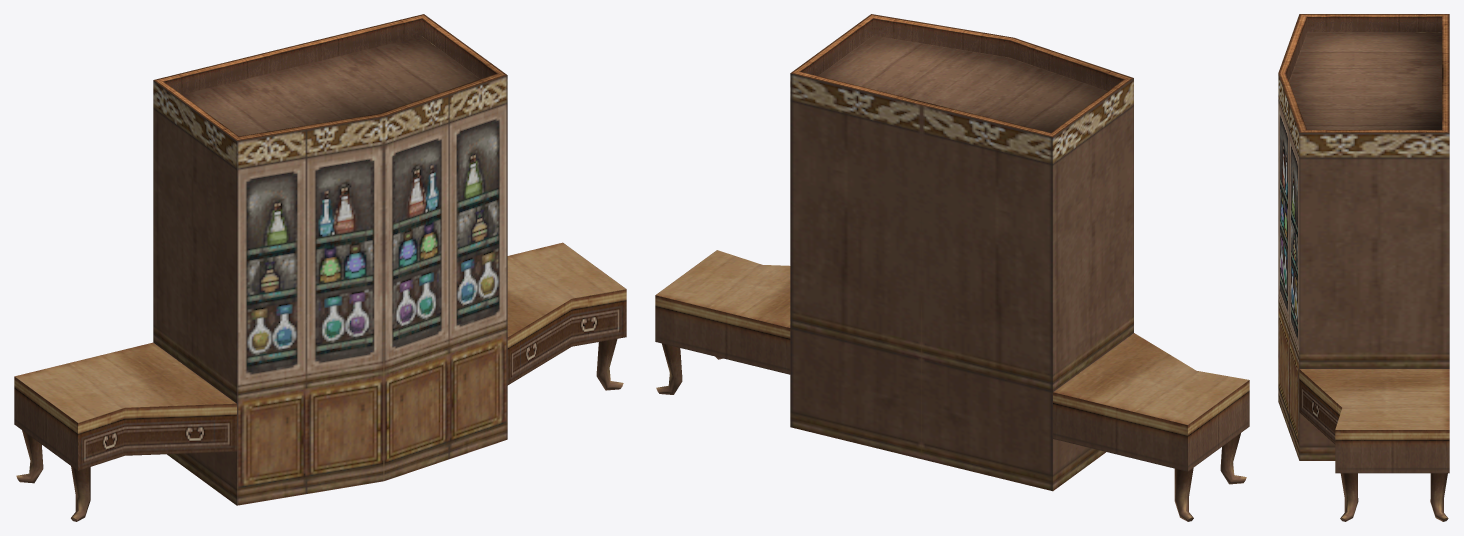
Rendered from lab-cabinet.glb.
The picture shows the model from 3 angles, left to right: view 1: azimuth 30°, elevation 25°; view 2: azimuth 150°, elevation 25°; view 3: azimuth 270°, elevation 25°; orthographic projection. The views are drawn at different scales.
Parts seen in each view (by area): view 1: Box01; view 2: Box01; view 3: Box01.
Boxes of the visible parts, x1,y1,x2,y2 form: Box01: [14, 14, 626, 521]; Box01: [655, 14, 1249, 521]; Box01: [1278, 14, 1449, 521].
Bounding box in the file's own units: 0.0907 × 0.0574 × 0.0271.
1 material, 1 textured.
